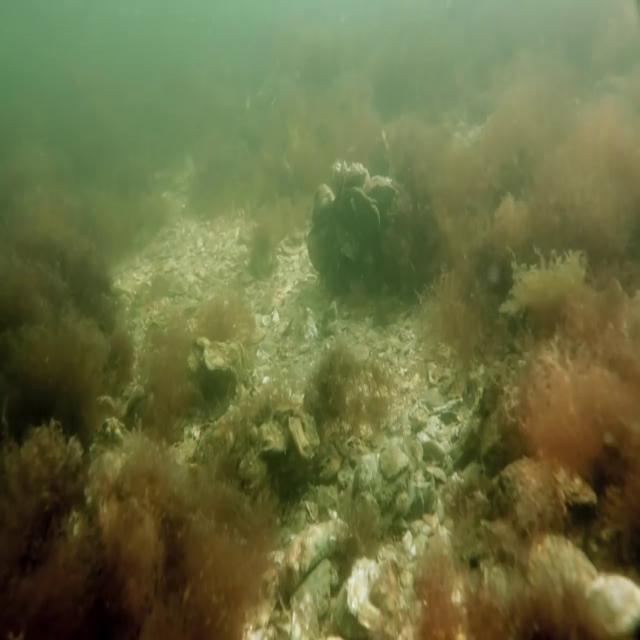Oyster-Closed: (339, 184, 380, 234), (363, 171, 400, 202), (343, 166, 369, 186)
Oyster-Indeterminate: (337, 244, 356, 263)
